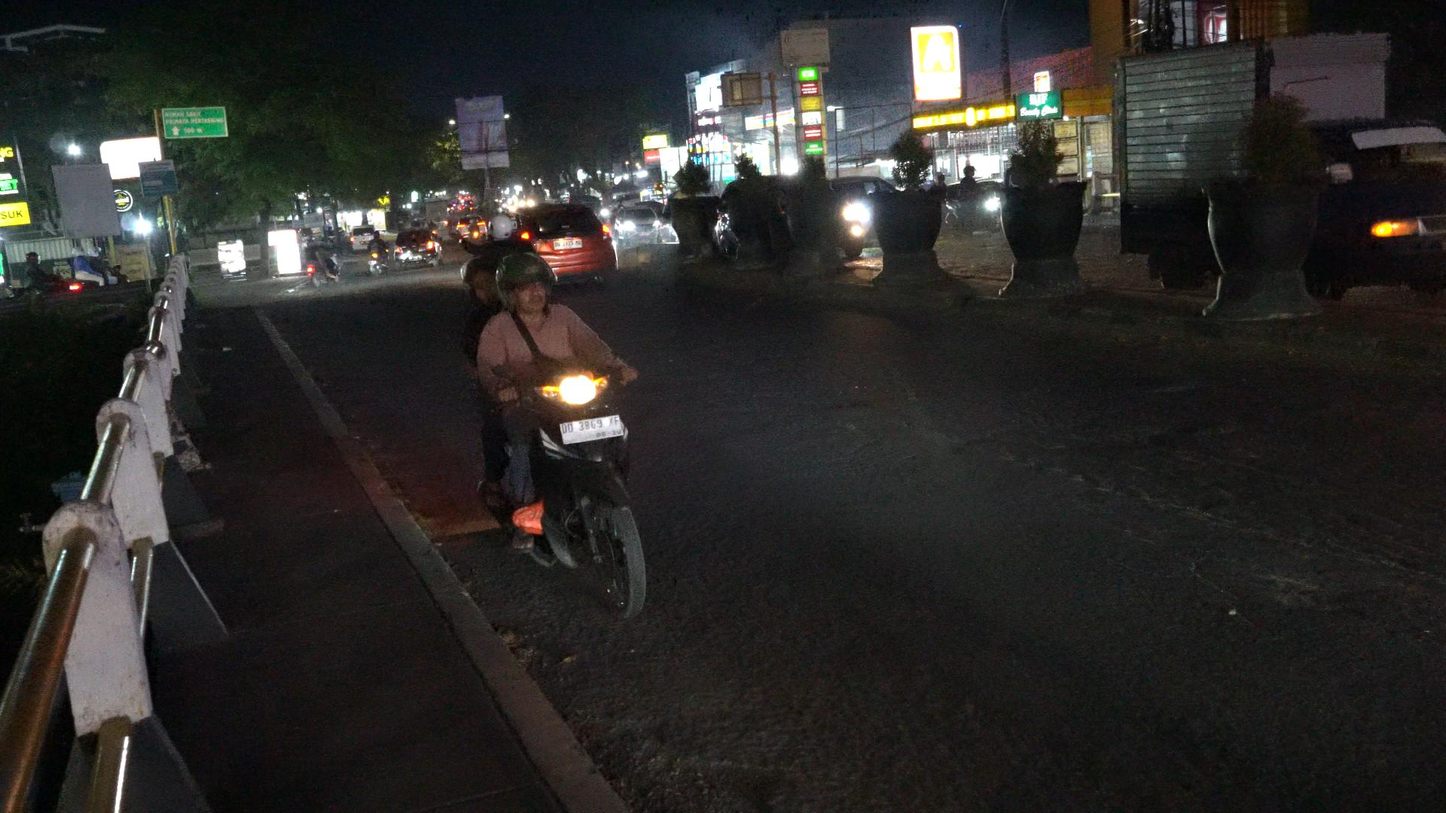number-plate: (554, 415, 631, 445)
